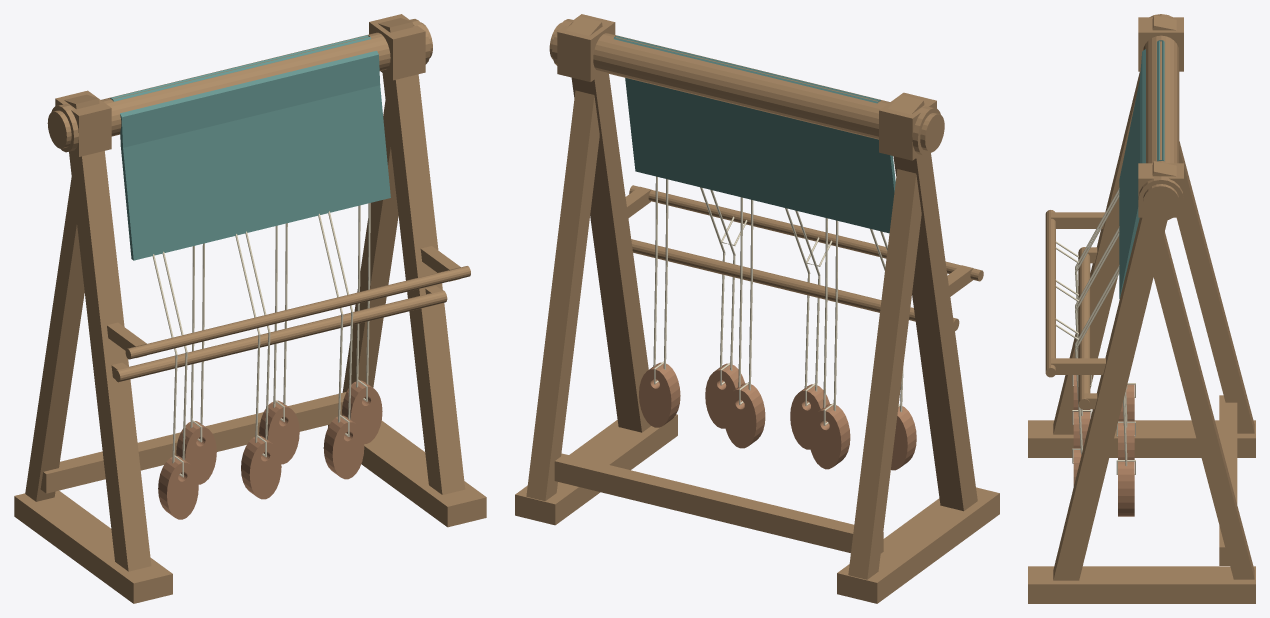
The picture shows the model from 3 angles, left to right: view 1: azimuth 30°, elevation 25°; view 2: azimuth 150°, elevation 25°; view 3: azimuth 270°, elevation 25°; orthographic projection. The views are drawn at different scales.
Parts seen in each view (by area): view 1: WholeBentUpperClothDisplay, LeftWholeInclinedStandard, RightWholeInclinedStandard, LeftWholeRearBrace, LeftWholeGroundFootRunner, WholeUpperWindingBeam, WholeRearLowCrossTie, RightWholeGroundFootRunner, RightWholeRearBrace, WholeLowerShedBar, WholeProjectingHeddleRod, RightWholeBeamBearing (+9 smaller); view 2: WholeBentUpperClothDisplay, LeftWholeInclinedStandard, LeftWholeRearBrace, RightWholeRearBrace, WholeUpperWindingBeam, RightWholeInclinedStandard, WholeRearLowCrossTie, LeftWholeGroundFootRunner, RightWholeGroundFootRunner, WholeLowerShedBar, WholeProjectingHeddleRod, RightWholeBeamBearing (+7 smaller); view 3: RightWholeInclinedStandard, RightWholeGroundFootRunner, RightWholeRearBrace, LeftWholeRearBrace, WholeUpperWindingBeam, LeftWholeInclinedStandard, LeftWholeGroundFootRunner, WholeBentUpperClothDisplay, WholeProjectingHeddleRod, WholeRearLowCrossTie, WholeLowerShedBar, LeftWholeBeamBearing (+11 smaller).
Part boxes in pixels (<box>): WholeBentUpperClothDisplay: <box>110,35,390,260</box>; LeftWholeInclinedStandard: <box>64,94,151,571</box>; RightWholeInclinedStandard: <box>378,18,465,494</box>; LeftWholeRearBrace: <box>25,177,84,501</box>; LeftWholeGroundFootRunner: <box>14,490,172,603</box>; WholeUpperWindingBeam: <box>47,22,432,148</box>; WholeRearLowCrossTie: <box>40,392,346,493</box>; RightWholeGroundFootRunner: <box>328,420,486,527</box>; RightWholeRearBrace: <box>342,100,398,392</box>; WholeLowerShedBar: <box>114,290,447,382</box>; WholeProjectingHeddleRod: <box>125,266,470,359</box>; RightWholeBeamBearing: <box>369,14,425,80</box>; WholeBentUpperClothDisplay: <box>613,35,895,233</box>; LeftWholeInclinedStandard: <box>888,95,977,511</box>; LeftWholeRearBrace: <box>848,169,921,579</box>; RightWholeRearBrace: <box>526,90,599,501</box>; WholeUpperWindingBeam: <box>549,22,944,152</box>; RightWholeInclinedStandard: <box>566,16,650,432</box>; WholeRearLowCrossTie: <box>554,453,883,553</box>; LeftWholeGroundFootRunner: <box>837,487,999,603</box>; RightWholeGroundFootRunner: <box>515,414,677,525</box>; WholeLowerShedBar: <box>631,239,959,330</box>; WholeProjectingHeddleRod: <box>629,185,983,281</box>; RightWholeBeamBearing: <box>557,14,615,81</box>; RightWholeInclinedStandard: <box>1053,161,1176,580</box>; RightWholeGroundFootRunner: <box>1028,566,1255,603</box>; RightWholeRearBrace: <box>1153,231,1254,579</box>; LeftWholeRearBrace: <box>1176,141,1254,433</box>; WholeUpperWindingBeam: <box>1143,35,1179,219</box>; LeftWholeInclinedStandard: <box>1053,15,1176,434</box>; LeftWholeGroundFootRunner: <box>1028,420,1255,457</box>; WholeBentUpperClothDisplay: <box>1119,40,1164,298</box>; WholeProjectingHeddleRod: <box>1045,210,1055,377</box>; WholeRearLowCrossTie: <box>1219,395,1237,565</box>; WholeLowerShedBar: <box>1078,247,1090,409</box>; LeftWholeBeamBearing: <box>1138,17,1183,71</box>.
Size of the model in its own units: 1.68 by 1.97 by 0.95.
